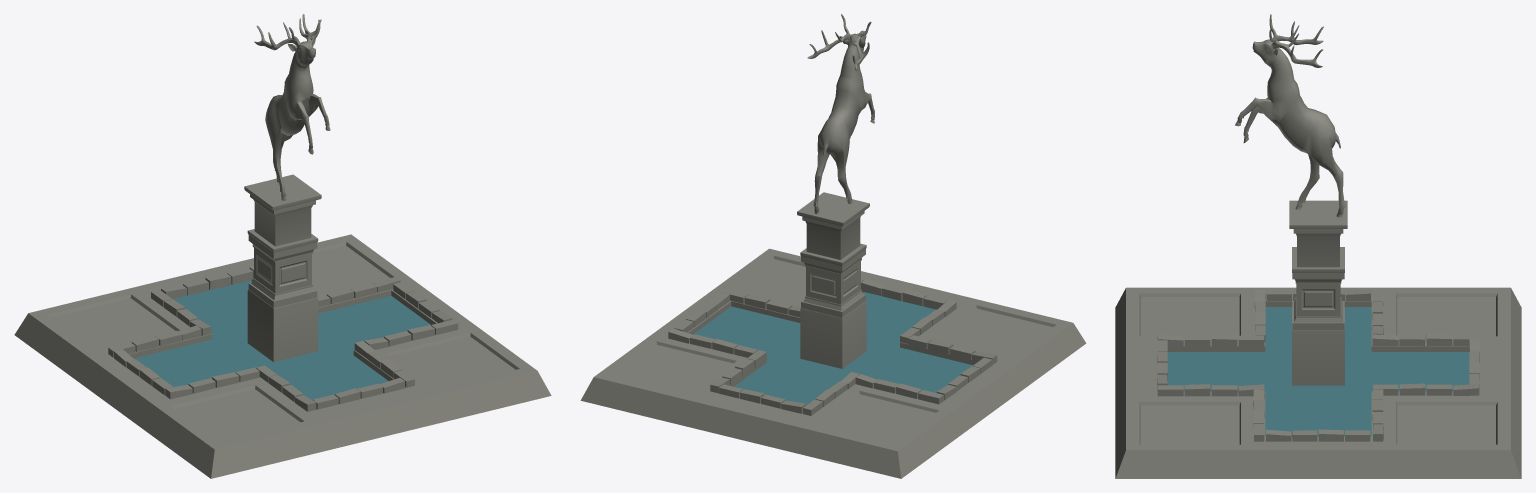
Rendered from towncenter_secondage_level1_lev3.glb.
3 renders of one model, left to right at view 1: azimuth 30°, elevation 25°; view 2: azimuth 150°, elevation 25°; view 3: azimuth 270°, elevation 25°, orthographic. The views are drawn at different scales.
Visible parts, largest first — view 1: towncenter_secondage_level1_lev3; view 2: towncenter_secondage_level1_lev3; view 3: towncenter_secondage_level1_lev3.
Part boxes in pixels (<box>): towncenter_secondage_level1_lev3: <box>14,14,551,478</box>; towncenter_secondage_level1_lev3: <box>580,14,1086,478</box>; towncenter_secondage_level1_lev3: <box>1115,14,1521,478</box>.
Bounding box in the file's own units: 19.18 × 19.35 × 19.18.
